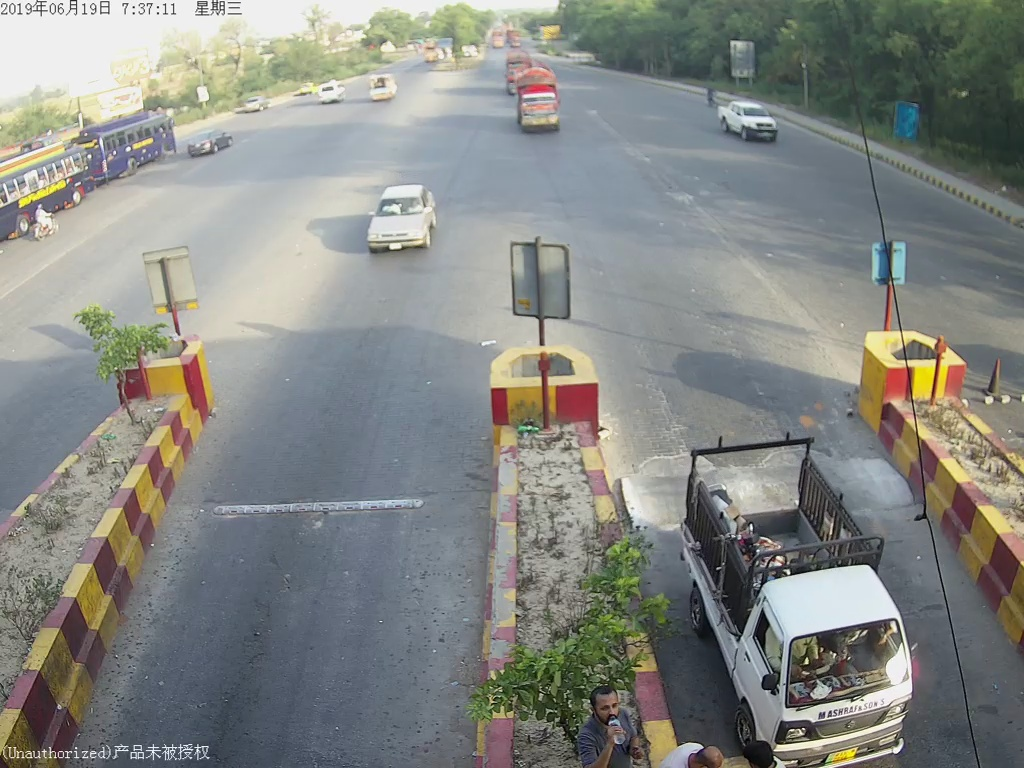Cat-1: (687, 424, 918, 768), (365, 182, 439, 256), (717, 91, 781, 144)
Cat-4: (517, 61, 568, 137)
